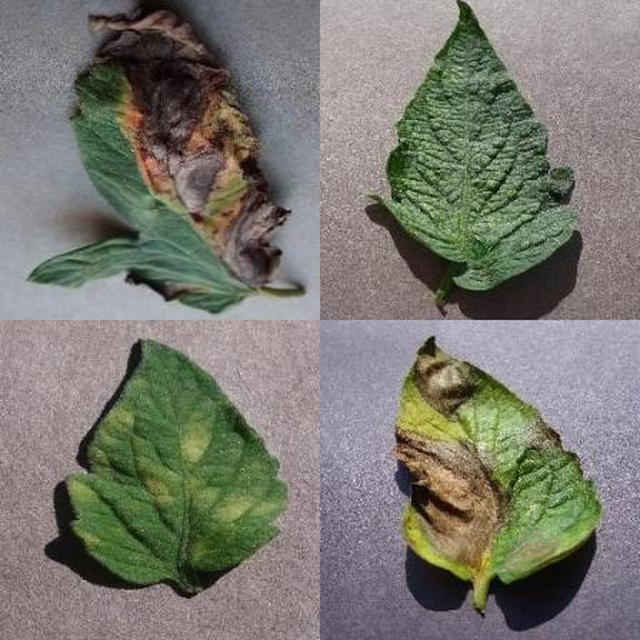Early Blight Leaf: (242, 209, 640, 640)
